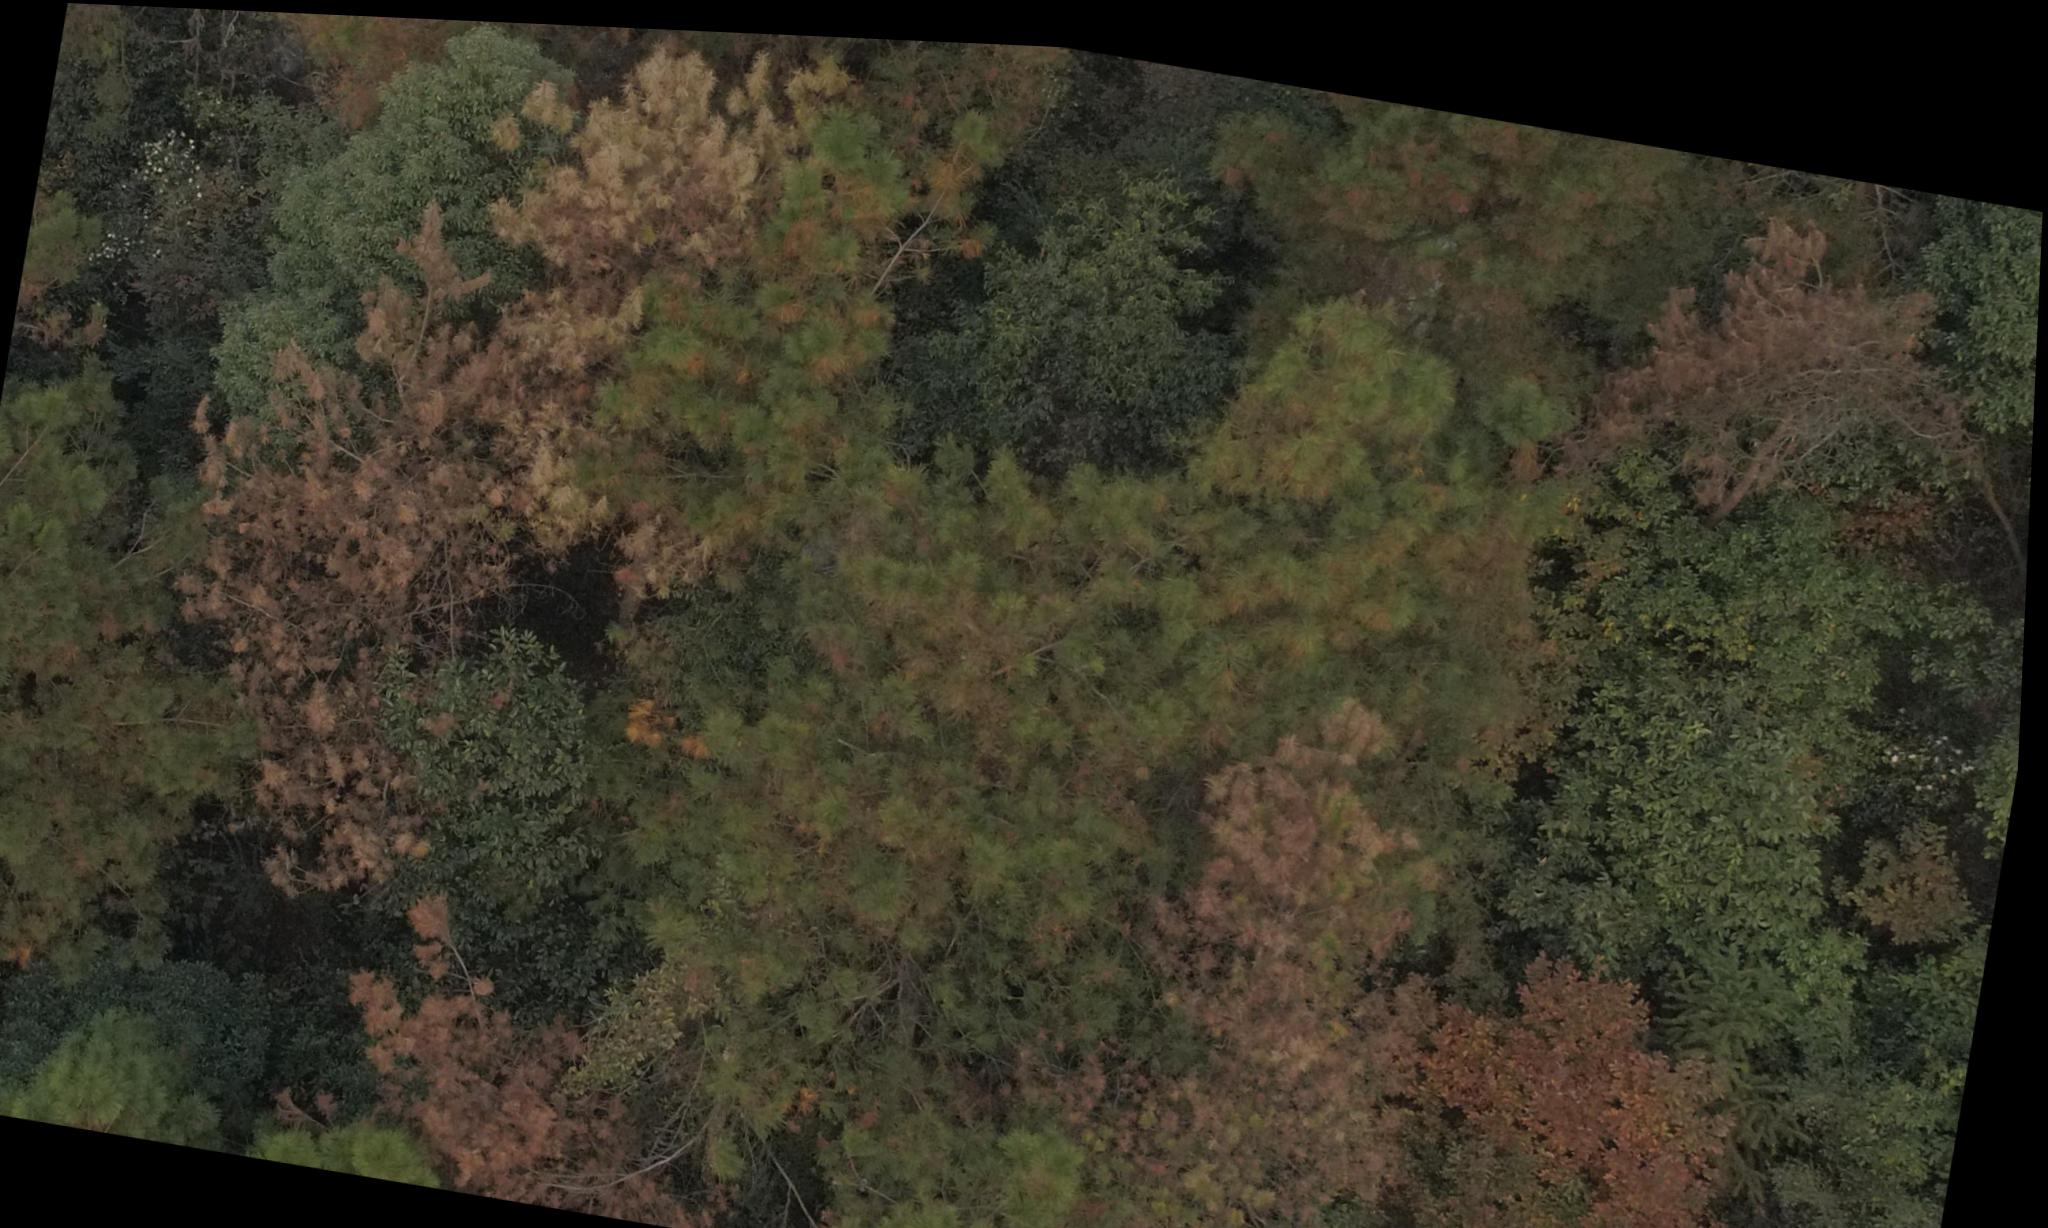heavy: (114, 165, 687, 912), (1528, 203, 1956, 525), (1342, 921, 1783, 1228)
light: (637, 238, 1545, 1137), (580, 45, 933, 655), (284, 927, 767, 1228)
